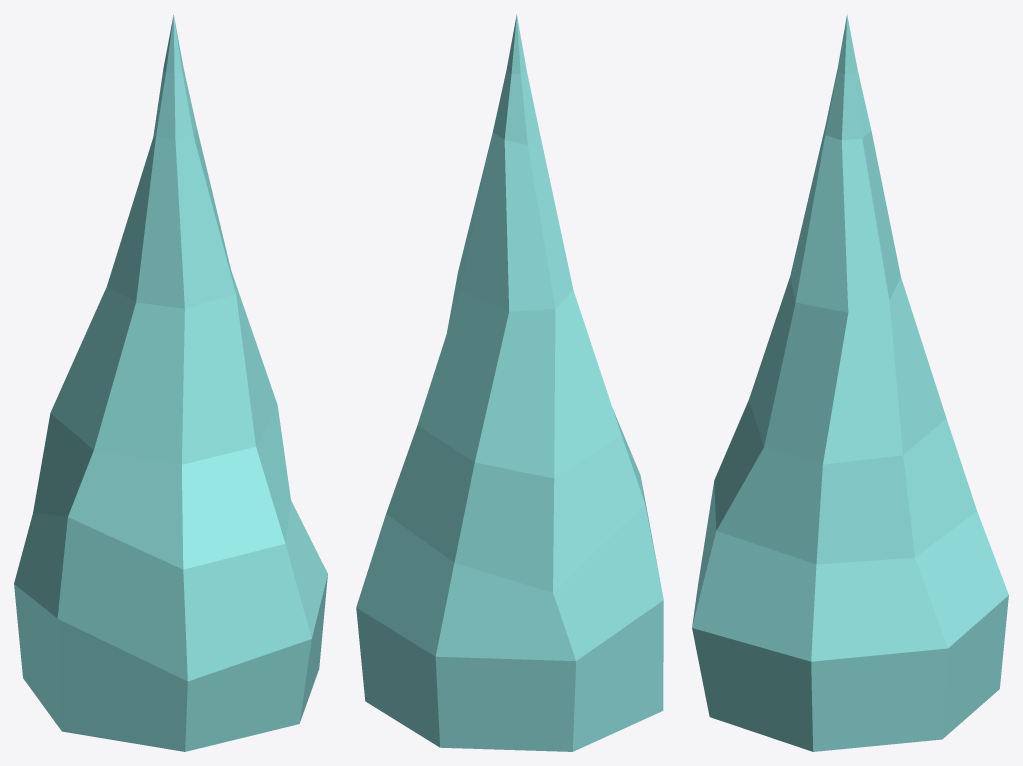
File: stalagmite.glb
The picture shows the model from 3 angles, left to right: view 1: azimuth 30°, elevation 25°; view 2: azimuth 150°, elevation 25°; view 3: azimuth 270°, elevation 25°; orthographic projection.
Visible parts, largest first — view 1: Circle; view 2: Circle; view 3: Circle.
Part boxes in pixels (bbox=[...]): Circle: bbox=[14, 15, 327, 751]; Circle: bbox=[356, 14, 663, 751]; Circle: bbox=[692, 14, 1008, 751].
Bounding box in the file's own units: 1.73 × 4.17 × 1.78.
